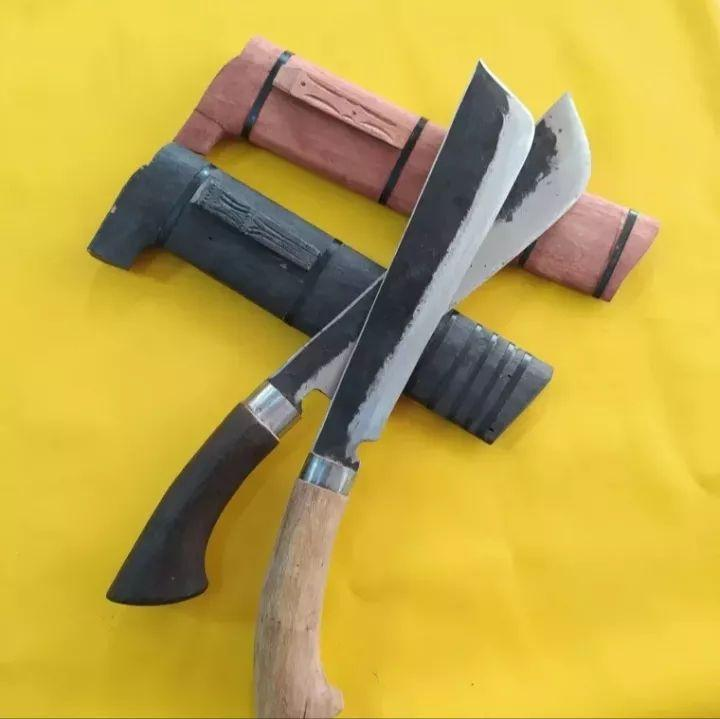facao: (78, 13, 675, 719)
